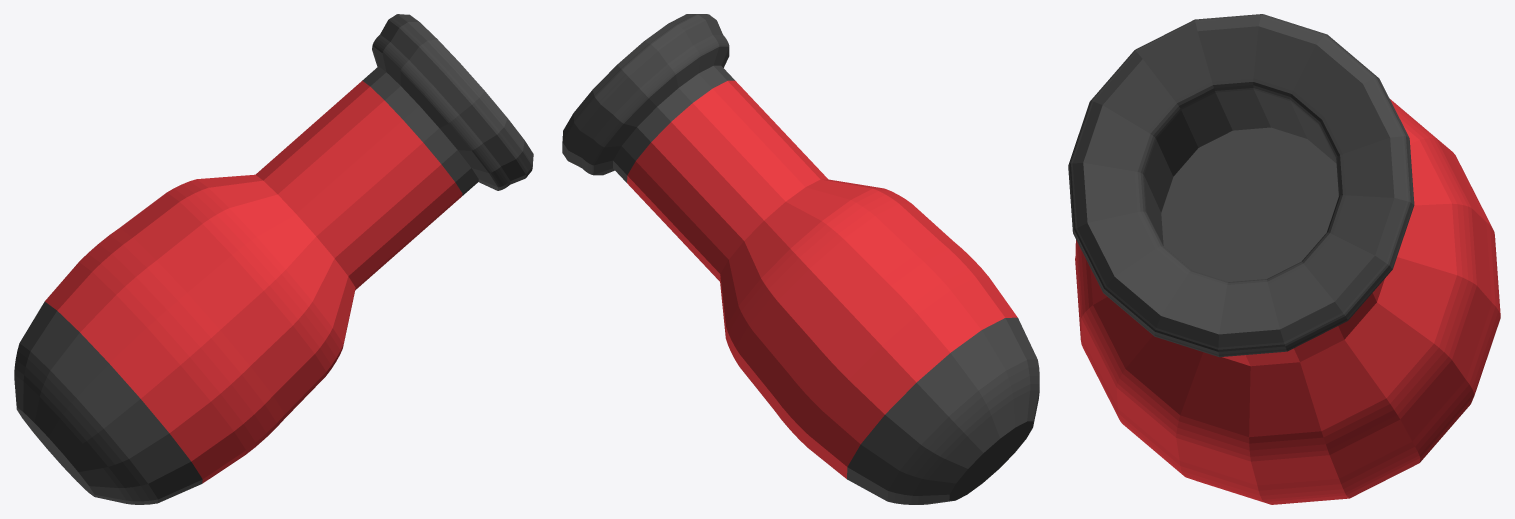
File: redCannon.fbx
The picture shows the model from 3 angles, left to right: view 1: azimuth 30°, elevation 25°; view 2: azimuth 150°, elevation 25°; view 3: azimuth 270°, elevation 25°; orthographic projection. The views are drawn at different scales.
Parts seen in each view (by area): view 1: Cylinder.001; view 2: Cylinder.001; view 3: Cylinder.001.
Part boxes in pixels (x1,y1,x2,y2): Cylinder.001: (14, 14, 533, 504); Cylinder.001: (562, 14, 1039, 504); Cylinder.001: (1068, 14, 1500, 504).
Bounding box in the file's own units: 146 × 123 × 70.45.
